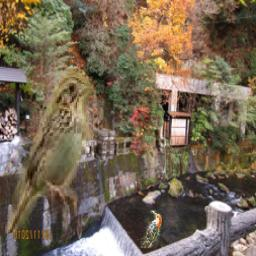Sparrow: (4, 70, 93, 233)
Woodpecker: (140, 210, 161, 248)
